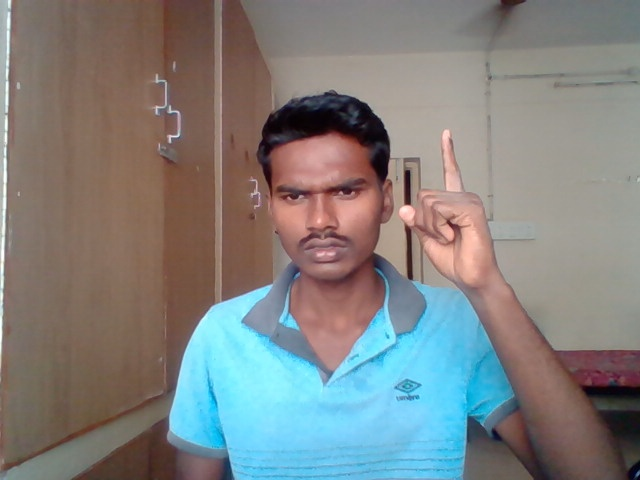No: (398, 127, 513, 291)
